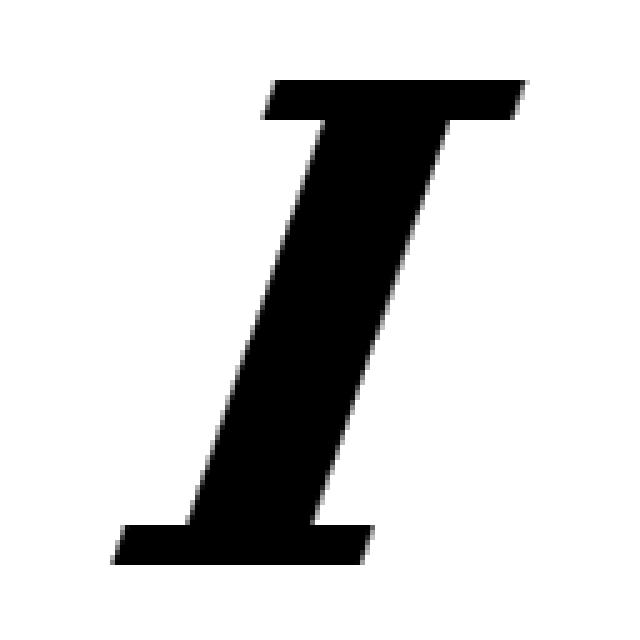I: (115, 80, 525, 565)
